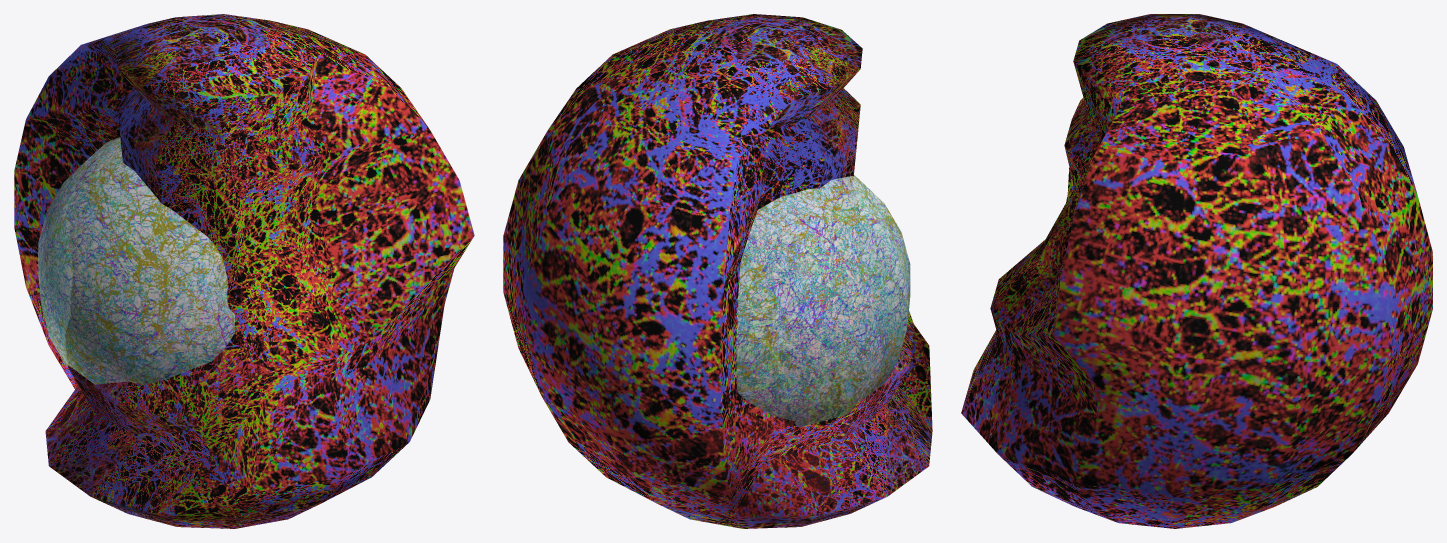
File: Planet_Travos_001.fbx
3 renders of one model, left to right at view 1: azimuth 30°, elevation 25°; view 2: azimuth 150°, elevation 25°; view 3: azimuth 270°, elevation 25°, orthographic.
Parts seen in each view (by area): view 1: Planet_Travos1; view 2: Planet_Travos1; view 3: Planet_Travos1.
Part boxes in pixels (x1,y1,x2,y2): Planet_Travos1: [14, 14, 474, 528]; Planet_Travos1: [503, 14, 932, 528]; Planet_Travos1: [961, 14, 1432, 528].
Size of the model in its own units: 8.08 by 9.87 by 8.9.
